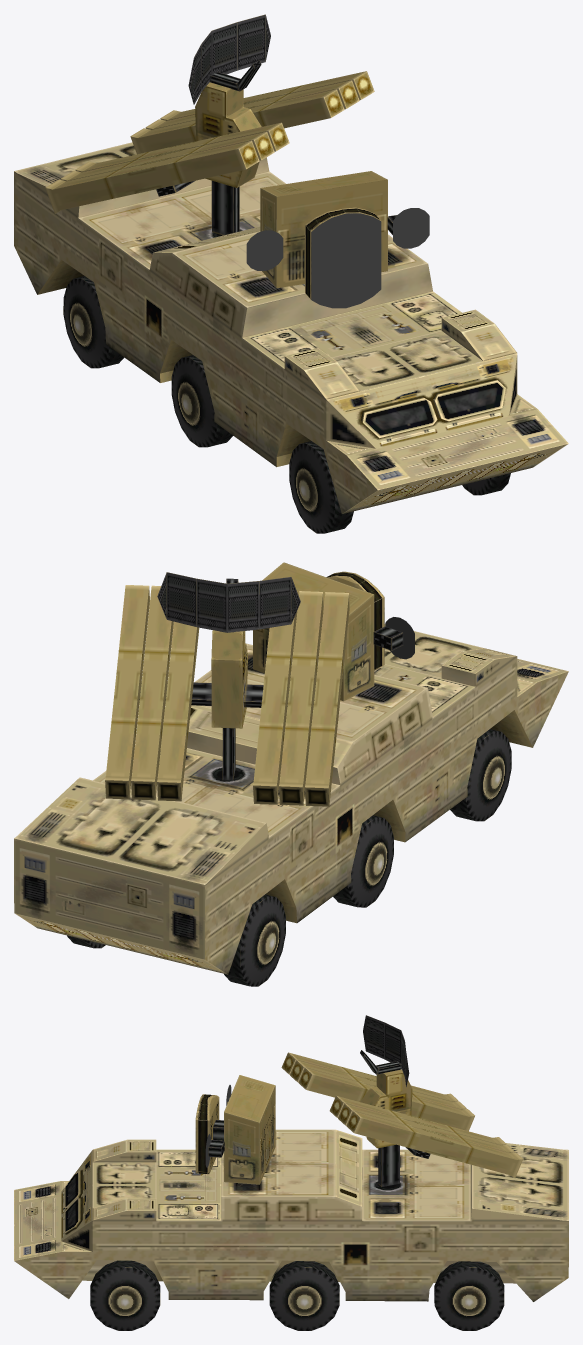
File: SA8_GECKO.glb
3 renders of one model, top to bottom at view 1: azimuth 30°, elevation 25°; view 2: azimuth 150°, elevation 25°; view 3: azimuth 270°, elevation 25°, orthographic. The views are drawn at different scales.
Parts seen in each view (by area): view 1: SA8_GECKO; view 2: SA8_GECKO; view 3: SA8_GECKO.
Part boxes in pixels (x1,y1,x2,y2): SA8_GECKO: (14, 14, 568, 533); SA8_GECKO: (14, 562, 568, 986); SA8_GECKO: (14, 1015, 568, 1330).
Size of the model in its own units: 4.59 by 5.73 by 10.88.
3 materials, 2 textured.
